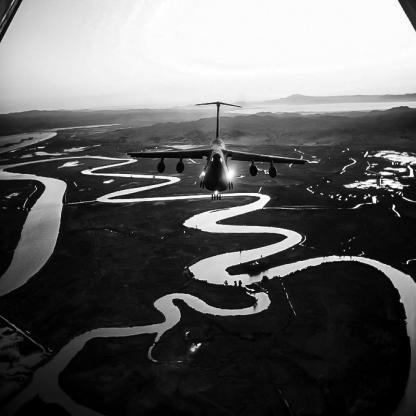C5: (126, 102, 310, 202)
